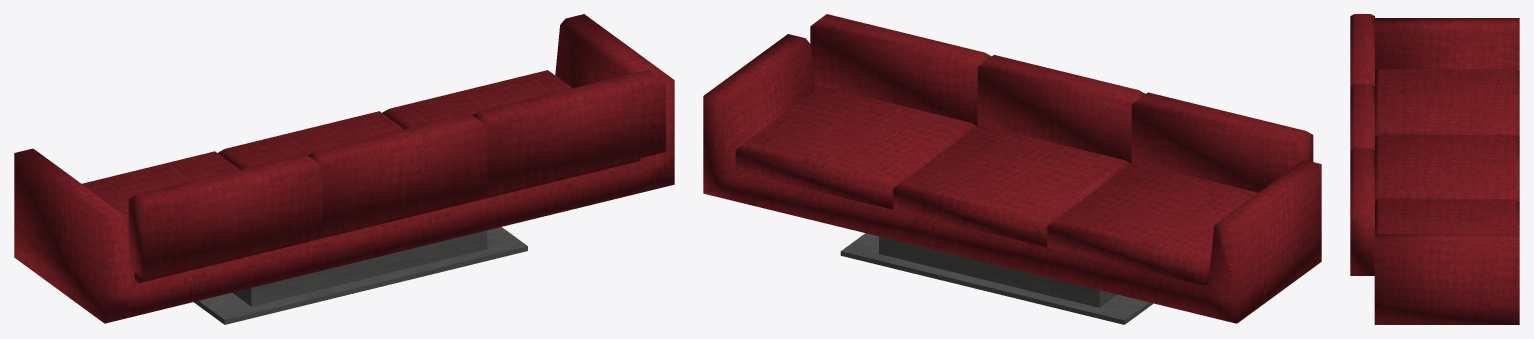
The model's file is couch.glb.
The picture shows the model from 3 angles, left to right: view 1: azimuth 30°, elevation 25°; view 2: azimuth 150°, elevation 25°; view 3: azimuth 270°, elevation 25°; orthographic projection. The views are drawn at different scales.
Parts seen in each view (by area): view 1: Sofa-col; view 2: Sofa-col; view 3: Sofa-col.
Part boxes in pixels (left/top/right/bottom): Sofa-col: left=14, top=14, right=674, bottom=324; Sofa-col: left=703, top=14, right=1321, bottom=324; Sofa-col: left=1350, top=14, right=1519, bottom=324.
Bounding box in the file's own units: 4.33 × 1.22 × 1.39.
2 materials, 2 textured.
